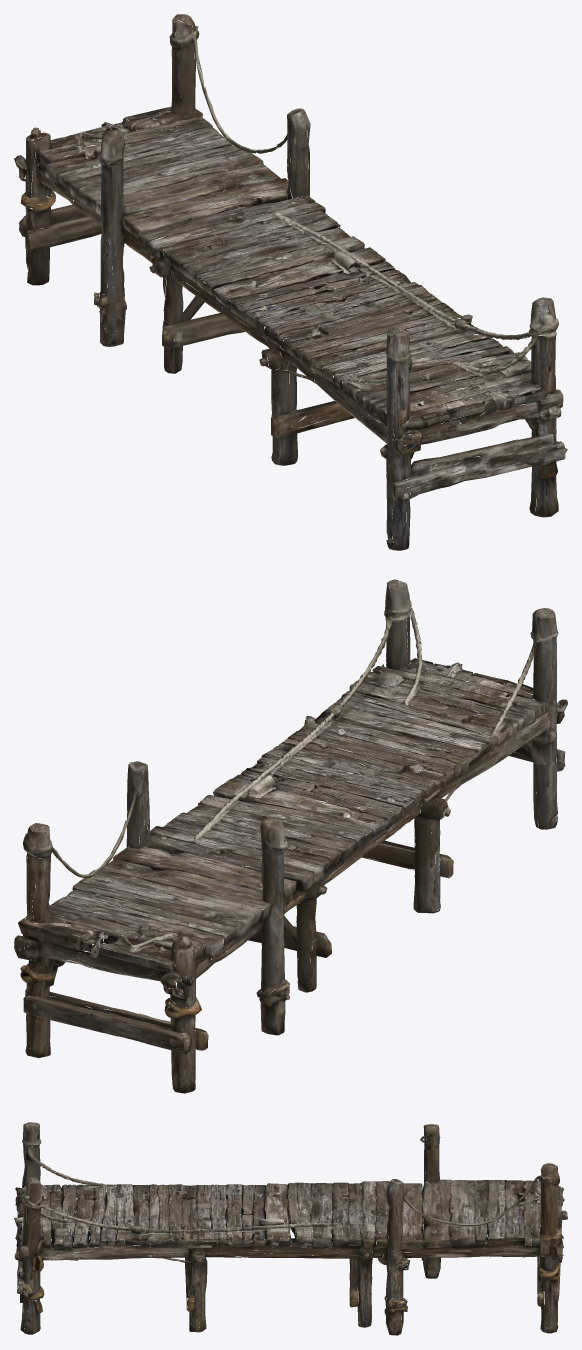
File: t_trapiche.glb
The picture shows the model from 3 angles, top to bottom: view 1: azimuth 30°, elevation 25°; view 2: azimuth 150°, elevation 25°; view 3: azimuth 270°, elevation 25°; orthographic projection. The views are drawn at different scales.
Visible parts, largest first — view 1: tripo_node_2208ddef-18c3-4883-8729-6ad440a44adf; view 2: tripo_node_2208ddef-18c3-4883-8729-6ad440a44adf; view 3: tripo_node_2208ddef-18c3-4883-8729-6ad440a44adf.
Part boxes in pixels (x1,y1,x2,y2): tripo_node_2208ddef-18c3-4883-8729-6ad440a44adf: (14, 14, 567, 550); tripo_node_2208ddef-18c3-4883-8729-6ad440a44adf: (14, 579, 567, 1093); tripo_node_2208ddef-18c3-4883-8729-6ad440a44adf: (14, 1122, 567, 1335).
Size of the model in its own units: 5.3 by 6 by 18.15.
Materials: 1 (1 with a texture image).
